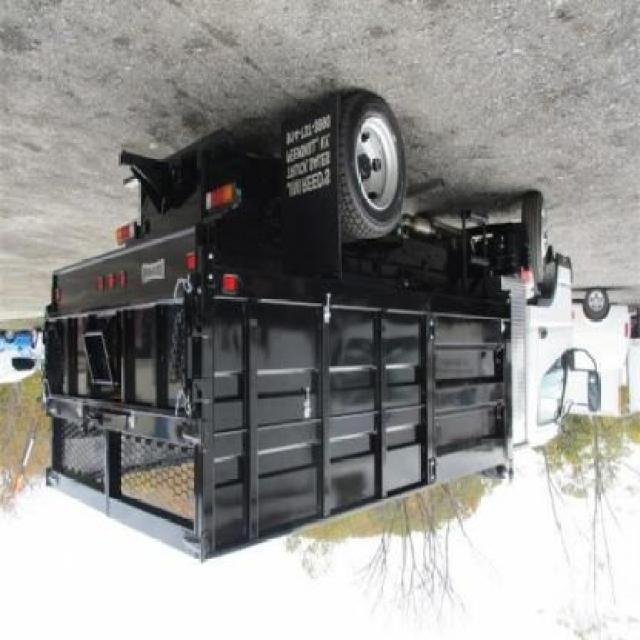truck: (40, 93, 600, 567)
